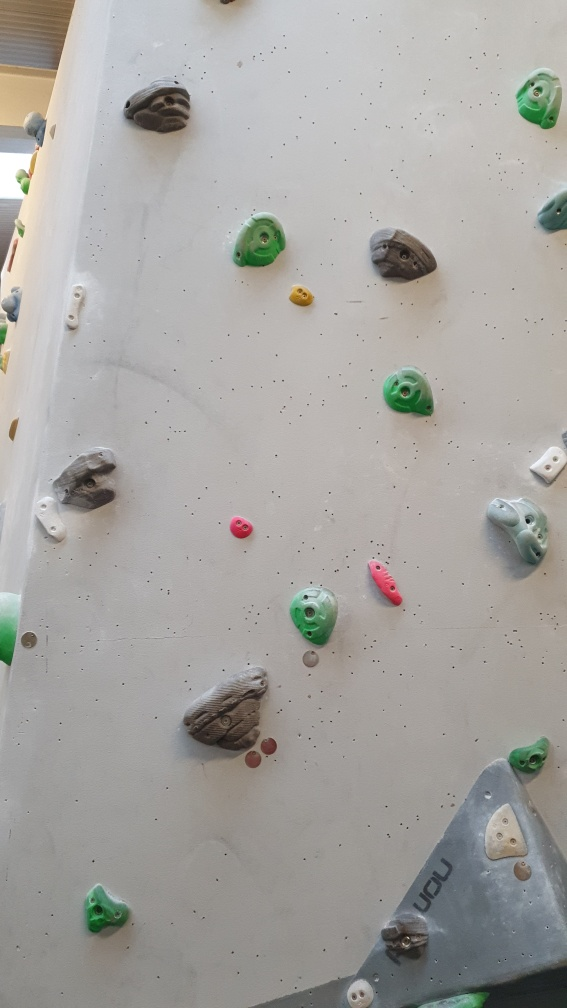Crimp: (363, 557, 402, 614), (527, 438, 567, 483), (32, 495, 65, 544), (65, 285, 87, 334)
Hand Start: (510, 854, 535, 887), (16, 629, 44, 653), (255, 734, 284, 757), (301, 643, 320, 671), (241, 750, 265, 772)
Jug: (179, 660, 269, 752), (485, 489, 550, 572), (45, 445, 122, 509), (367, 226, 442, 285), (123, 75, 191, 136), (230, 210, 290, 269), (288, 585, 339, 650), (380, 365, 437, 419), (513, 66, 558, 130), (506, 730, 552, 774)
Pinch: (224, 512, 259, 542), (285, 282, 314, 311)
